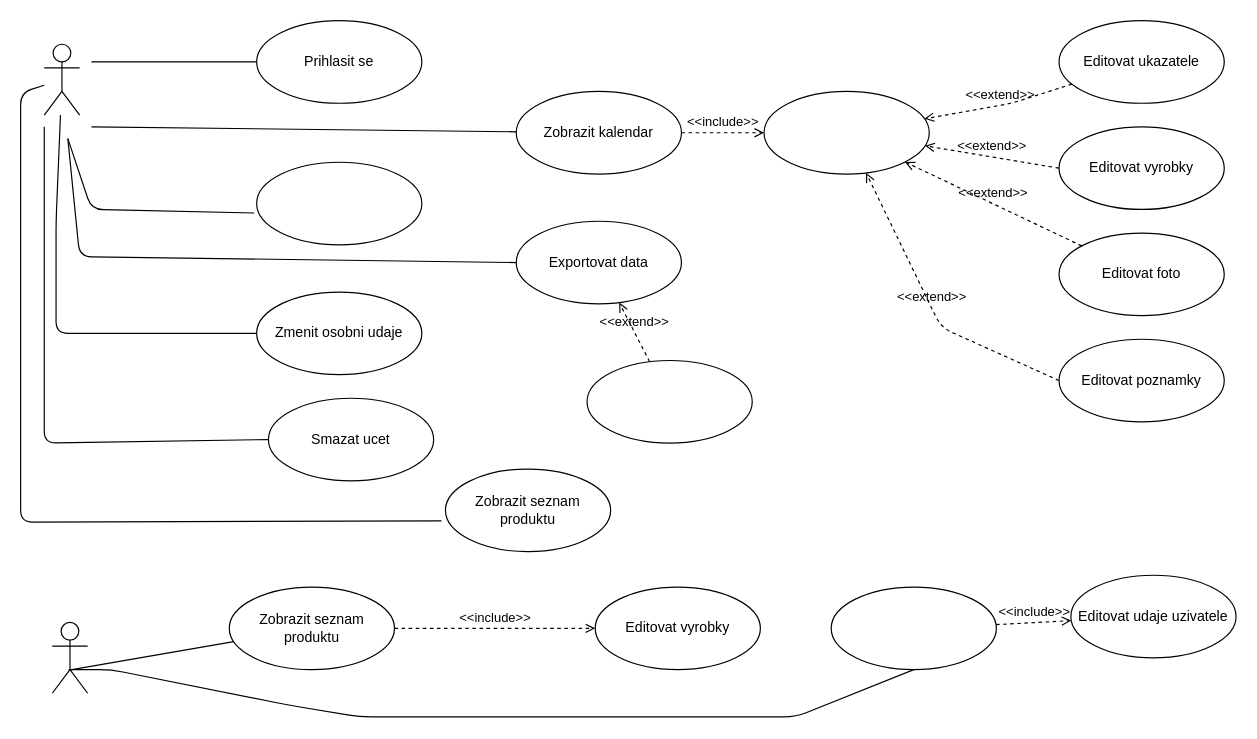
The diagram is 1257 pixels wide and 739 high, and some of its shapes have lost their labels. The shapes that lost their labels are listed below. From the top down, each one's centre as x and y in pixels, then its label:
At (x=61, y=79): "Uzivatel".
At (x=846, y=132): "Zvolit den".
At (x=338, y=203): "Odhlasit se".
At (x=669, y=401): "Vybrat obdobi".
At (x=913, y=628): "Zobrazit seznam uzivatelu".
At (x=69, y=657): "Admin".
